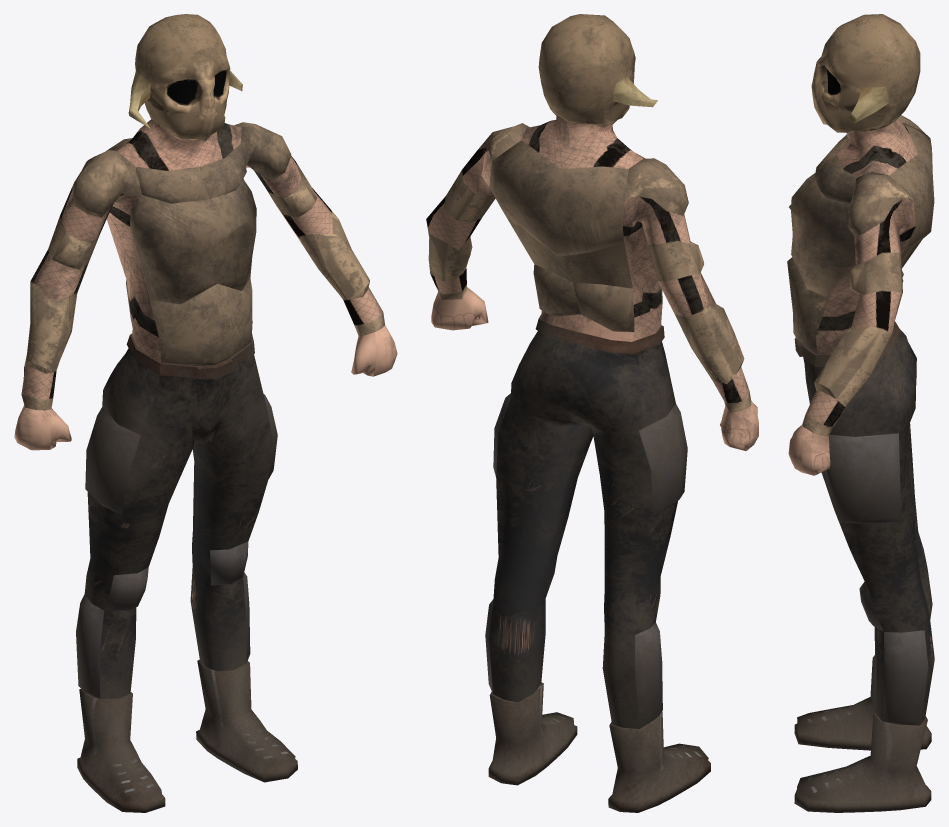
Rendered from Anim_idle_npc1.0020.obj.
3 renders of one model, left to right at view 1: azimuth 30°, elevation 25°; view 2: azimuth 150°, elevation 25°; view 3: azimuth 270°, elevation 25°, orthographic.
Parts seen in each view (by area): view 1: NPC2; view 2: NPC2; view 3: NPC2.
Boxes of the visible parts, x1=… form: NPC2: x1=14, y1=14, x2=397, y2=812; NPC2: x1=426, y1=14, x2=758, y2=812; NPC2: x1=787, y1=14, x2=934, y2=812.
Bounding box in the file's own units: 4.7 × 9.68 × 1.72.
